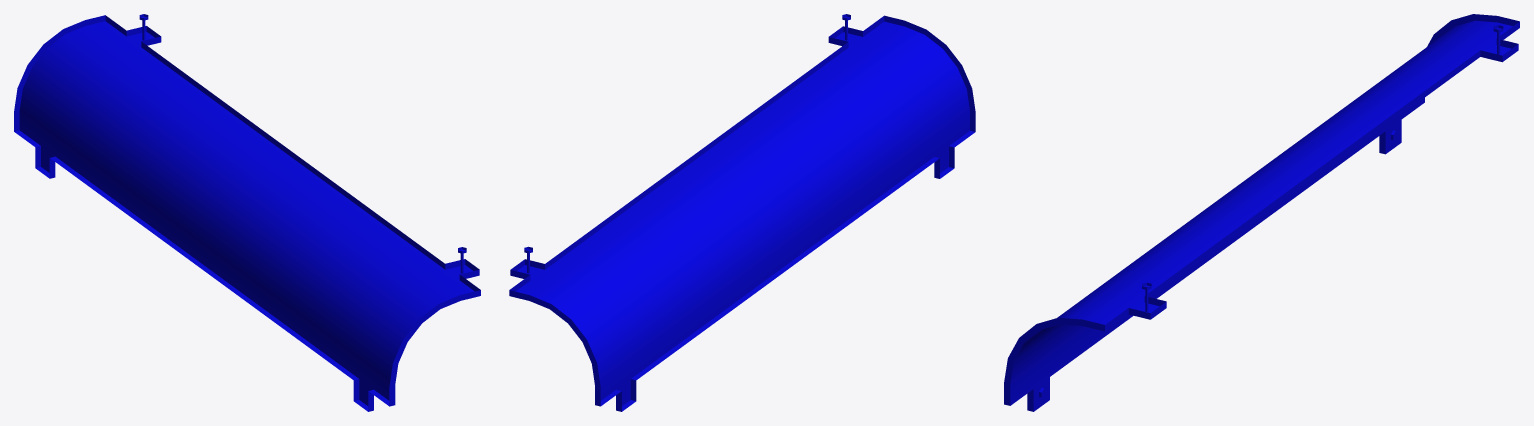
The model's file is HallCeilingPanel.fbx.
3 renders of one model, left to right at view 1: azimuth 30°, elevation 25°; view 2: azimuth 150°, elevation 25°; view 3: azimuth 330°, elevation 25°, orthographic. The views are drawn at different scales.
Visible parts, largest first — view 1: HallCeilingPanel; view 2: HallCeilingPanel; view 3: HallCeilingPanel.
Part boxes in pixels (<box>): HallCeilingPanel: <box>14,14,480,411</box>; HallCeilingPanel: <box>509,14,975,411</box>; HallCeilingPanel: <box>1004,14,1519,411</box>.
Size of the model in its own units: 83.96 by 95.72 by 490.
